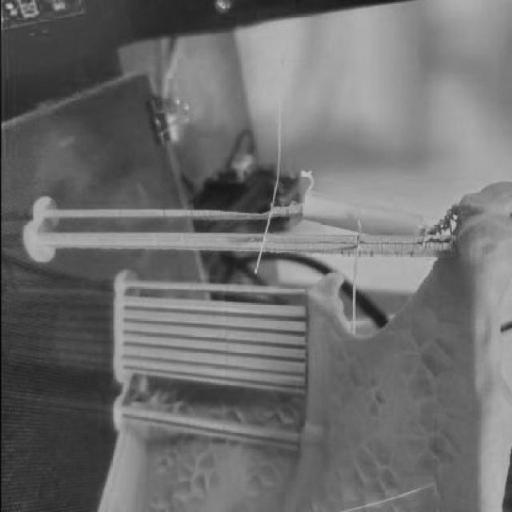spaghetti_and_stringing: (252, 112, 282, 277), (348, 218, 363, 336), (425, 204, 464, 242)
